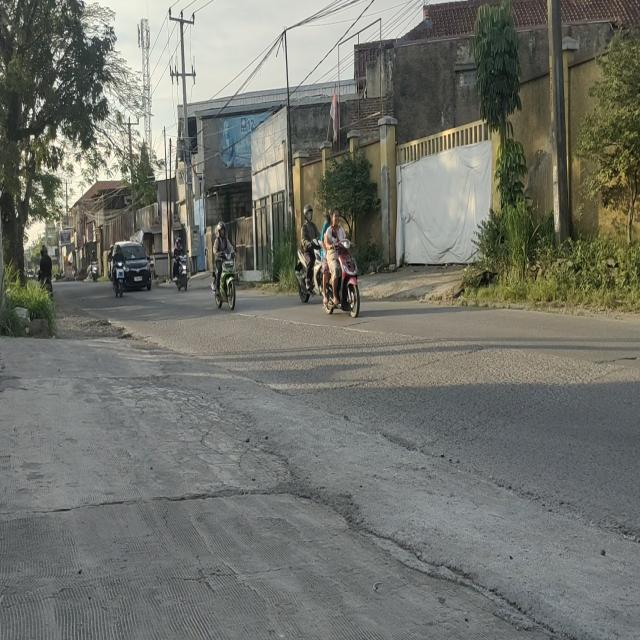helmet: (302, 202, 313, 223), (217, 219, 227, 239)
no-helmet: (333, 206, 341, 226), (326, 206, 334, 225)
